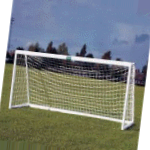goals: (8, 48, 136, 131)
